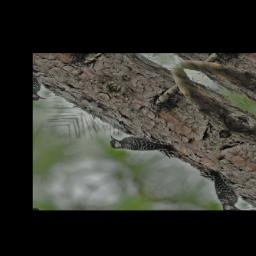Woodpecker: (100, 119, 180, 171)
